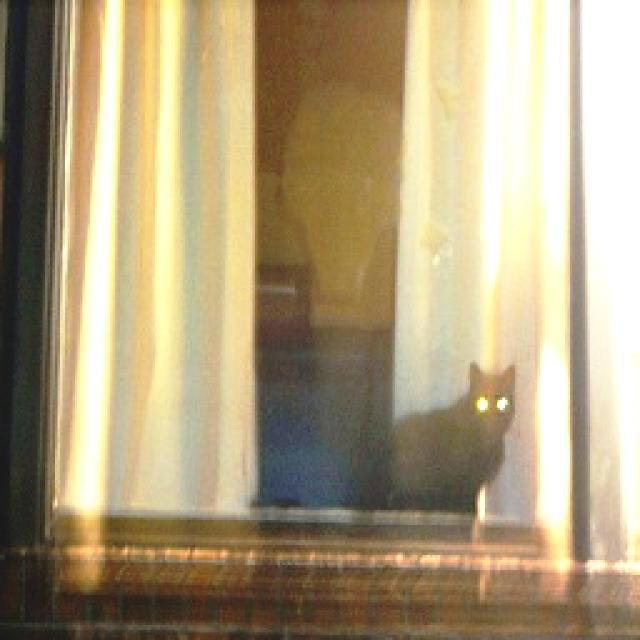cat: (331, 328, 540, 541)
